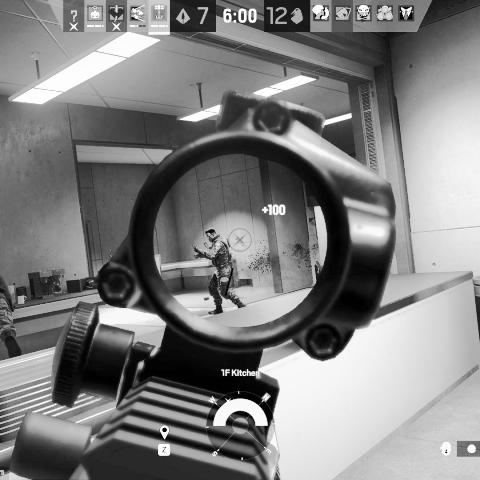Character: (192, 227, 247, 316), (0, 274, 24, 360)
Head: (205, 227, 218, 243)
